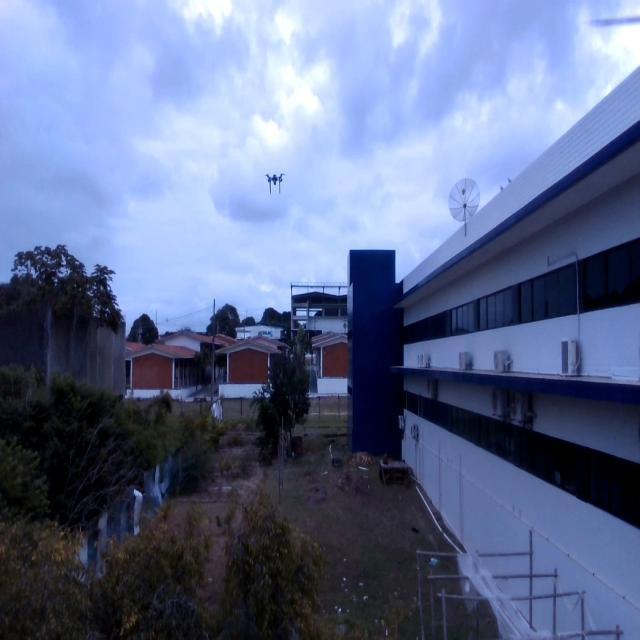-uav-: (256, 158, 292, 208)
